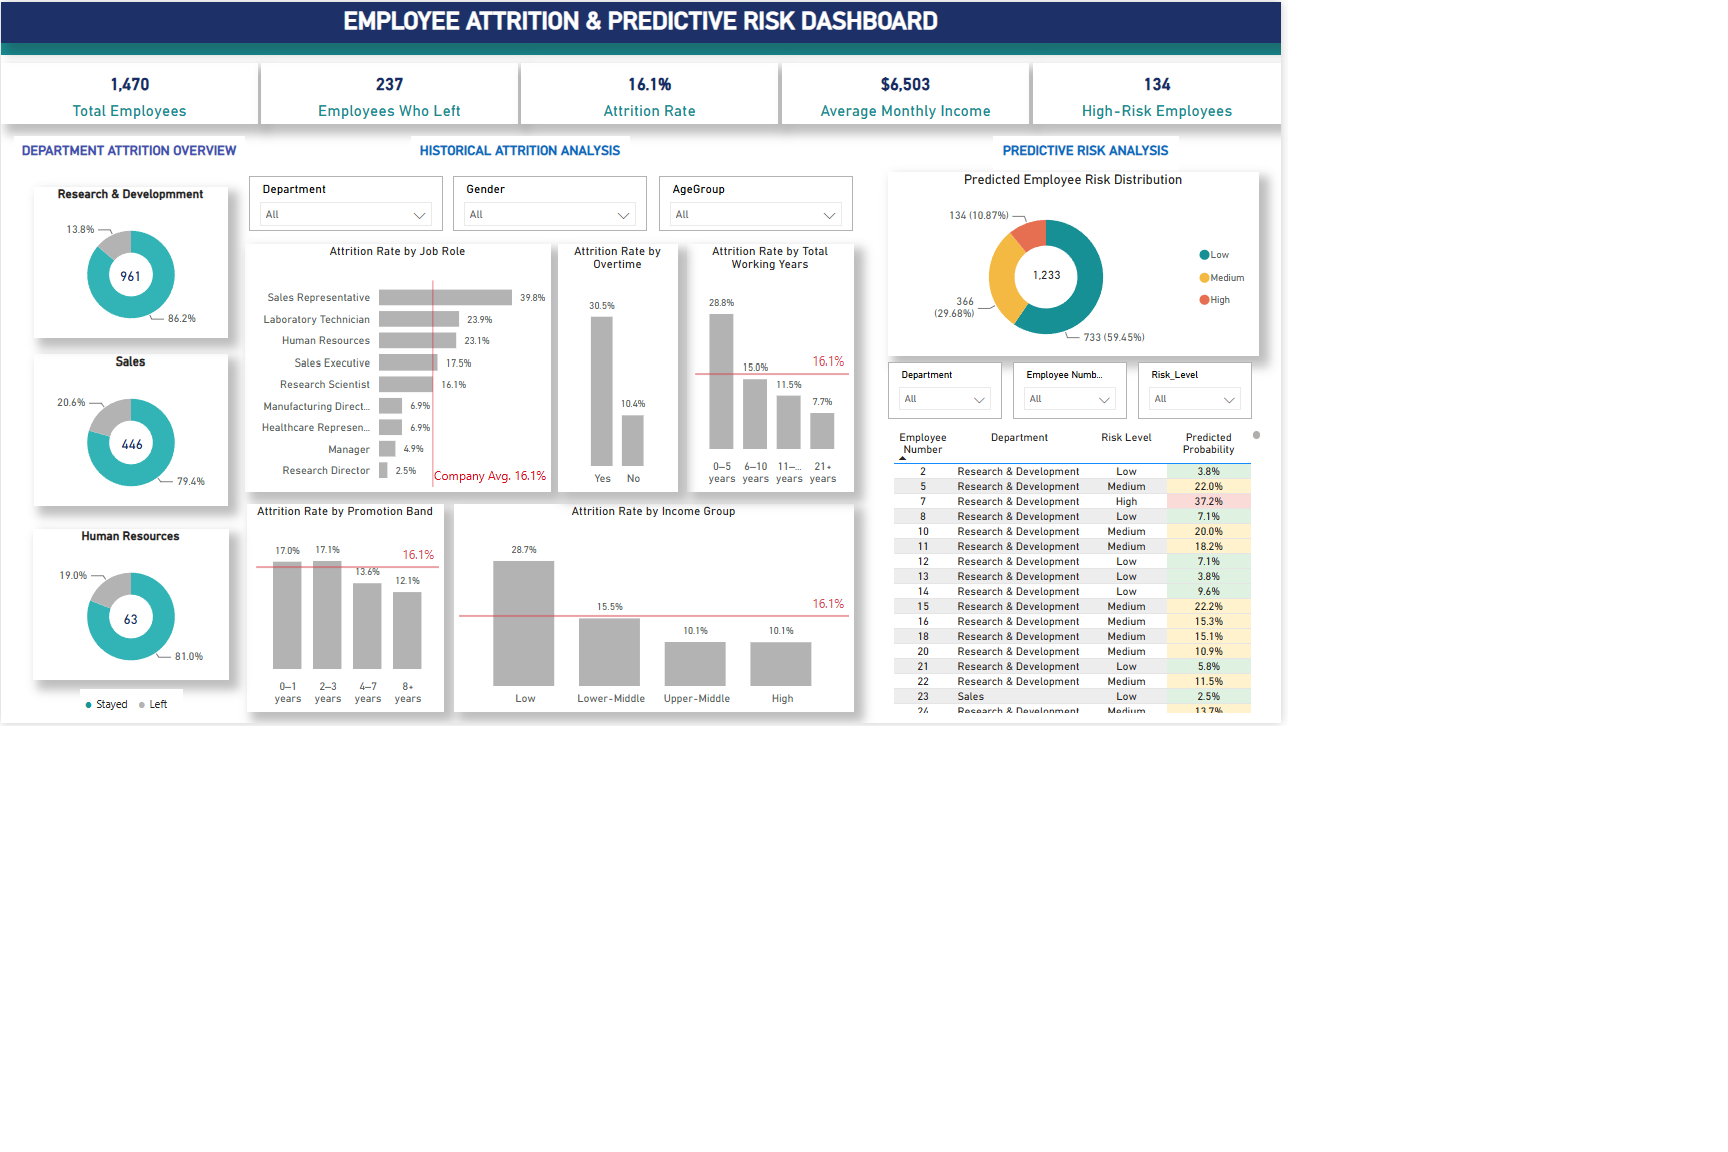

The dashboard page shown, as its layout file describes it:
{"tool":"powerbi","page":{"name":"Attrition Overview","canvas":[1280,720],"ordinal":0},"visuals":[{"type":"slicer","fields":{"Values":["HR_Attrition_Historical.Department"]},"box":[248,167,194,55],"z":0},{"type":"shape","box":[0,41,1280,12.1],"z":1000},{"type":"card","fields":{"Values":["HR_Attrition_Historical.Total Employees"]},"box":[0,53,257,61],"z":2000},{"type":"card","fields":{"Values":["HR_Attrition_Historical.Employees Who Left"]},"box":[260,53,257,61],"z":3000},{"type":"card","fields":{"Values":["HR_Attrition_Historical.Attrition Rate"]},"box":[520,53,257,61],"z":4000},{"type":"card","fields":{"Values":["HR_Attrition_Historical.Average Monthly Income"]},"box":[781,53,247,61],"z":5000},{"type":"donutChart","title":"Predicted Employee Risk Distribution","fields":{"Category":["HR_Attrition_Predictive_Risk.Risk_Level"],"Y":["Count(HR_Attrition_Predictive_Risk.EmployeeNumber)"]},"box":[882,158.3,371,184],"z":6000},{"type":"textbox","box":[0,0,1280,41],"z":7000},{"type":"card","fields":{"Values":["HR_Attrition_Predictive_Risk.High-Risk Employees"]},"box":[1032,53,248,61],"z":8000},{"type":"slicer","fields":{"Values":["HR_Attrition_Historical.Gender"]},"box":[452,167,194,55],"z":9000},{"type":"slicer","fields":{"Values":["HR_Attrition_Historical.AgeGroup"]},"box":[658,167,194,55],"z":10000},{"type":"clusteredBarChart","title":"Attrition Rate by Job Role","fields":{"Y":["HR_Attrition_Historical.Attrition Rate"],"Category":["HR_Attrition_Historical.JobRole"]},"box":[244,235,306,247],"z":11000},{"type":"clusteredColumnChart","title":"Attrition Rate by Promotion Band","fields":{"Category":["HR_Attrition_Historical.PromotionBand"],"Y":["HR_Attrition_Historical.Attrition Rate"]},"box":[246,494,197,208],"z":12000},{"type":"clusteredColumnChart","title":"Attrition Rate by Income Group","fields":{"Category":["HR_Attrition_Historical.IncomeGroup"],"Y":["HR_Attrition_Historical.Attrition Rate"]},"box":[452.7,493.6,195.5,208.6],"z":13000},{"type":"clusteredColumnChart","title":"Attrition Rate by Total Working Years","fields":{"Category":["HR_Attrition_Historical.TotalWorkingYearsGroup"],"Y":["HR_Attrition_Historical.Attrition Rate"]},"box":[686,235,167,247],"z":14000},{"type":"donutChart","title":"Sales","fields":{"Category":["HR_Attrition_Historical.Attrition"],"Y":["CountNonNull(HR_Attrition_Historical.EmployeeNumber)"]},"box":[33,345,194,151],"z":15000},{"type":"donutChart","title":"Human Resources","fields":{"Category":["HR_Attrition_Historical.Attrition"],"Y":["CountNonNull(HR_Attrition_Historical.EmployeeNumber)"]},"box":[32,519,196,151],"z":16000},{"type":"donutChart","title":"Research & Developmment","fields":{"Category":["HR_Attrition_Historical.Attrition"],"Y":["CountNonNull(HR_Attrition_Historical.EmployeeNumber)"]},"box":[33,178,194,151],"z":17000},{"type":"card","fields":{"Values":["HR_Attrition_Historical.Total Employees"]},"box":[112,254,35,25],"z":18000},{"type":"card","fields":{"Values":["HR_Attrition_Historical.Total Employees"]},"box":[111,421,40,25],"z":19000},{"type":"card","fields":{"Values":["HR_Attrition_Historical.Total Employees"]},"box":[107,595,45,23],"z":20000},{"type":"textbox","box":[79,679,103,29],"z":21000},{"type":"textbox","box":[13,127,231,34],"z":22000},{"type":"clusteredColumnChart","title":"Attrition Rate by Overtime","fields":{"Category":["HR_Attrition_Historical.OverTime"],"Y":["HR_Attrition_Historical.Attrition Rate"]},"box":[557,235,120,247],"z":23000},{"type":"textbox","box":[992,127,186,34],"z":24000},{"type":"card","fields":{"Values":["Sum(HR_Attrition_Predictive_Risk.EmployeeCount)"]},"box":[1013.2,251,54.2,28.3],"z":25000},{"type":"textbox","box":[410,127,219,34],"z":26000},{"type":"tableEx","fields":{"Values":["HR_Attrition_Predictive_Risk.EmployeeNumber","HR_Attrition_Predictive_Risk.Department","HR_Attrition_Predictive_Risk.Risk_Level","HR_Attrition_Predictive_Risk.Predicted_Probability"]},"box":[887,415,378,293],"z":27000},{"type":"slicer","fields":{"Values":["HR_Attrition_Predictive_Risk.Risk_Level"]},"box":[1137,353,114,56],"z":28000},{"type":"slicer","fields":{"Values":["HR_Attrition_Predictive_Risk.EmployeeNumber"]},"box":[1012,353,114,56],"z":29000},{"type":"slicer","fields":{"Values":["HR_Attrition_Predictive_Risk.Department"]},"box":[887,353,114,56],"z":30000},{"type":"clusteredColumnChart","title":"Attrition Rate by Income Group","fields":{"Y":["HR_Attrition_Historical.Attrition Rate"],"Category":["HR_Attrition_Historical.Job Satisfaction Label"]},"box":[657.3,493.4,194.9,208.7],"z":31000}]}

Visuals, with their boxes on the page's 1280x720 design canvas (x1, y1, x2, y2). These are canvas units, not pixel positions in the 1728x1152 screenshot, which may show the page scaled, cropped or inside an application window:
slicer - HR_Attrition_Historical.Department: <box>248,167,442,222</box>
shape: <box>0,41,1280,53</box>
card - HR_Attrition_Historical.Total Employees: <box>0,53,257,114</box>
card - HR_Attrition_Historical.Employees Who Left: <box>260,53,517,114</box>
card - HR_Attrition_Historical.Attrition Rate: <box>520,53,777,114</box>
card - HR_Attrition_Historical.Average Monthly Income: <box>781,53,1028,114</box>
"Predicted Employee Risk Distribution" donutChart: <box>882,158,1253,342</box>
textbox: <box>0,0,1280,41</box>
card - HR_Attrition_Predictive_Risk.High-Risk Employees: <box>1032,53,1280,114</box>
slicer - HR_Attrition_Historical.Gender: <box>452,167,646,222</box>
slicer - HR_Attrition_Historical.AgeGroup: <box>658,167,852,222</box>
"Attrition Rate by Job Role" clusteredBarChart: <box>244,235,550,482</box>
"Attrition Rate by Promotion Band" clusteredColumnChart: <box>246,494,443,702</box>
"Attrition Rate by Income Group" clusteredColumnChart: <box>453,494,648,702</box>
"Attrition Rate by Total Working Years" clusteredColumnChart: <box>686,235,853,482</box>
"Sales" donutChart: <box>33,345,227,496</box>
"Human Resources" donutChart: <box>32,519,228,670</box>
"Research & Developmment" donutChart: <box>33,178,227,329</box>
card - HR_Attrition_Historical.Total Employees: <box>112,254,147,279</box>
card - HR_Attrition_Historical.Total Employees: <box>111,421,151,446</box>
card - HR_Attrition_Historical.Total Employees: <box>107,595,152,618</box>
textbox: <box>79,679,182,708</box>
textbox: <box>13,127,244,161</box>
"Attrition Rate by Overtime" clusteredColumnChart: <box>557,235,677,482</box>
textbox: <box>992,127,1178,161</box>
card - Sum(HR_Attrition_Predictive_Risk.EmployeeCount): <box>1013,251,1067,279</box>
textbox: <box>410,127,629,161</box>
tableEx - HR_Attrition_Predictive_Risk.EmployeeNumber x HR_Attrition_Predictive_Risk.Department: <box>887,415,1265,708</box>
slicer - HR_Attrition_Predictive_Risk.Risk_Level: <box>1137,353,1251,409</box>
slicer - HR_Attrition_Predictive_Risk.EmployeeNumber: <box>1012,353,1126,409</box>
slicer - HR_Attrition_Predictive_Risk.Department: <box>887,353,1001,409</box>
"Attrition Rate by Income Group" clusteredColumnChart: <box>657,493,852,702</box>
